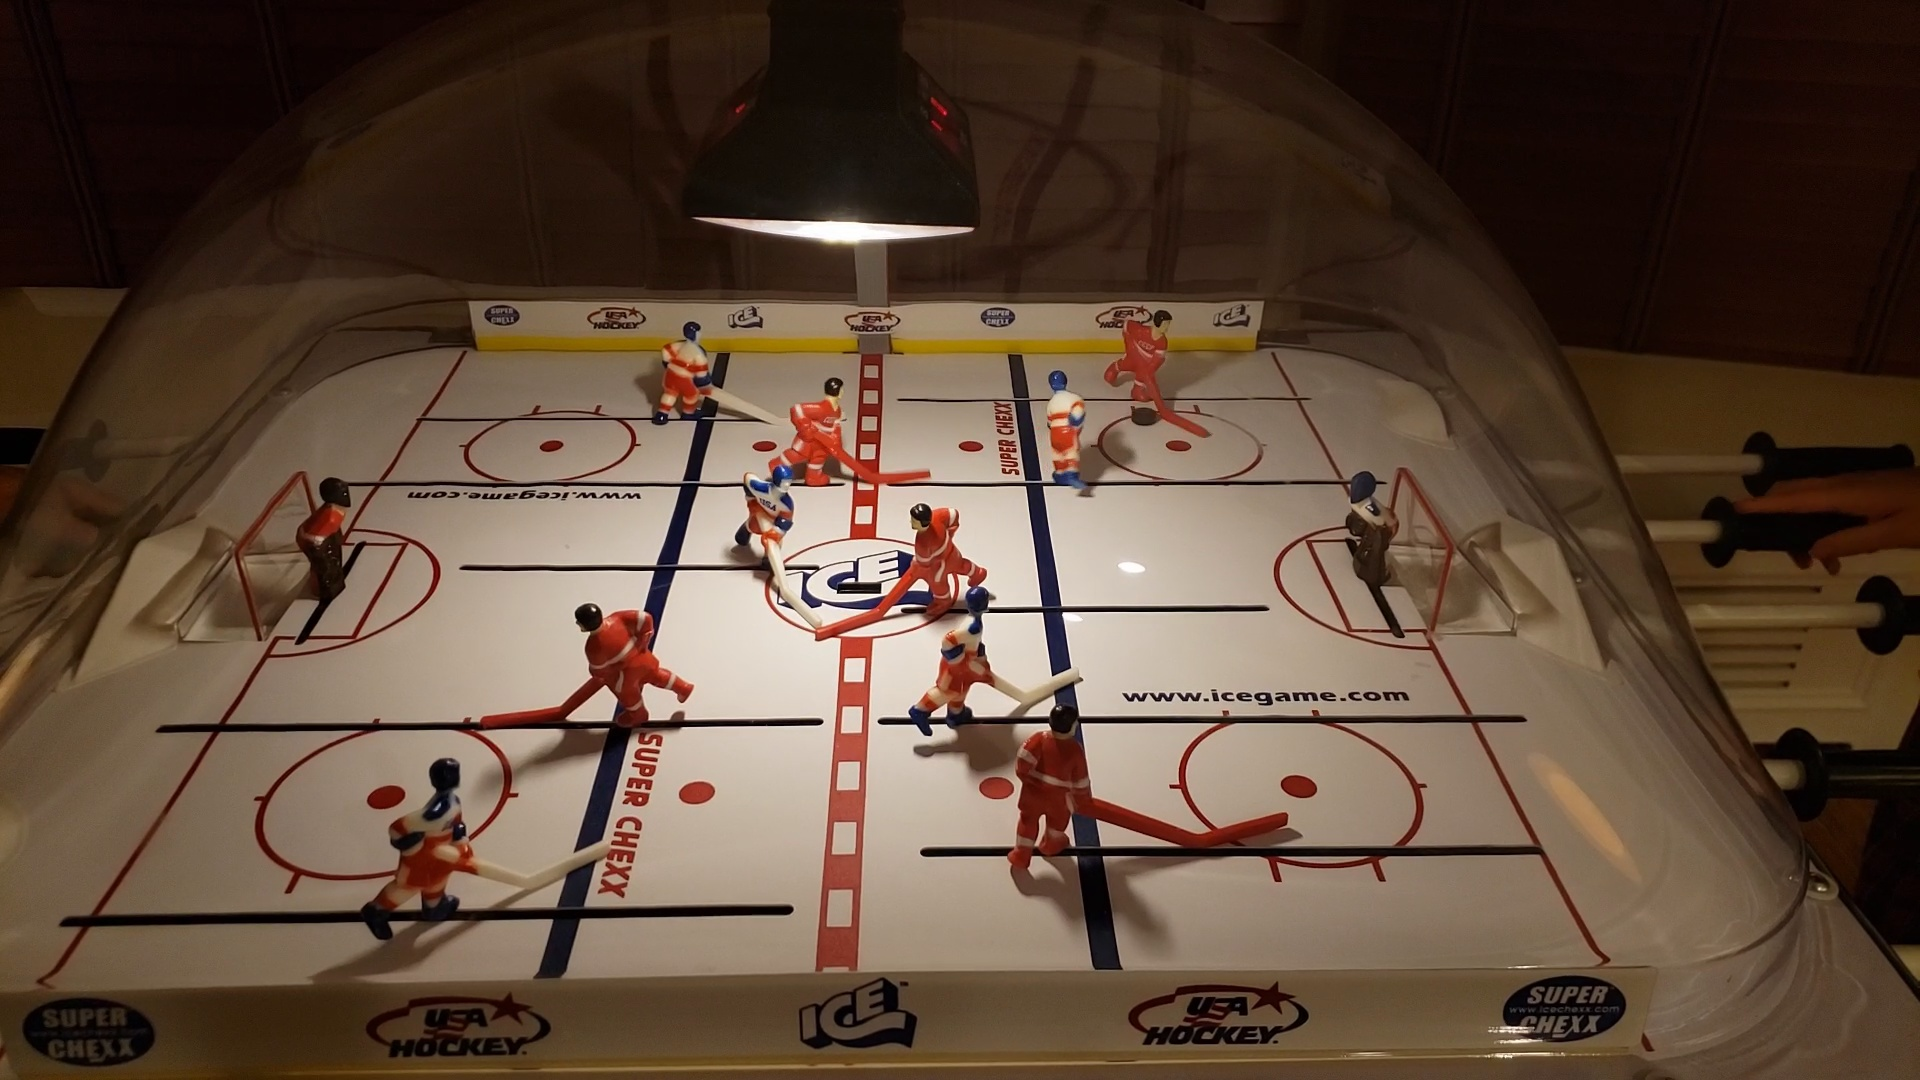puck: (1127, 404, 1160, 429)
